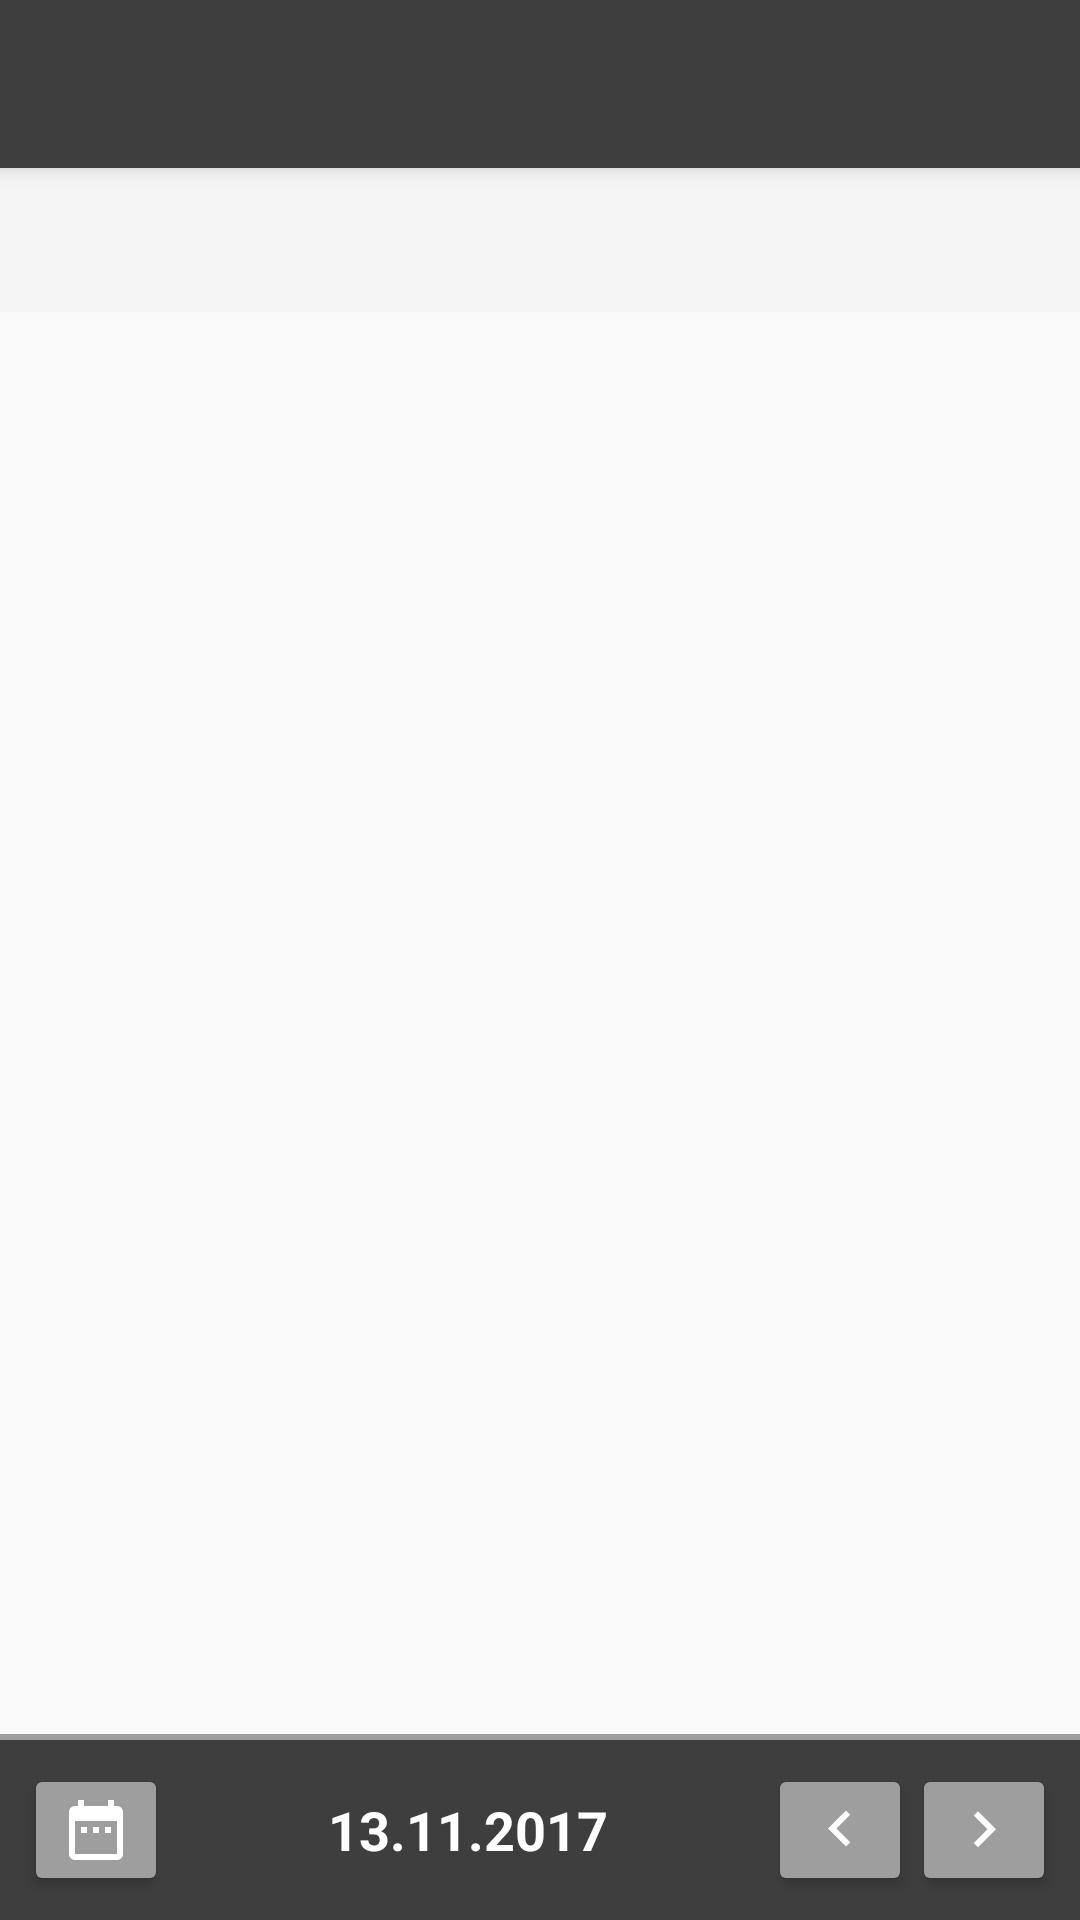

Point at icon controls on the screen. Image size 1080 x 1920, points as (x,y).
arrow left: (840,1830)
arrow right: (984,1830)
date range: (96,1830)
